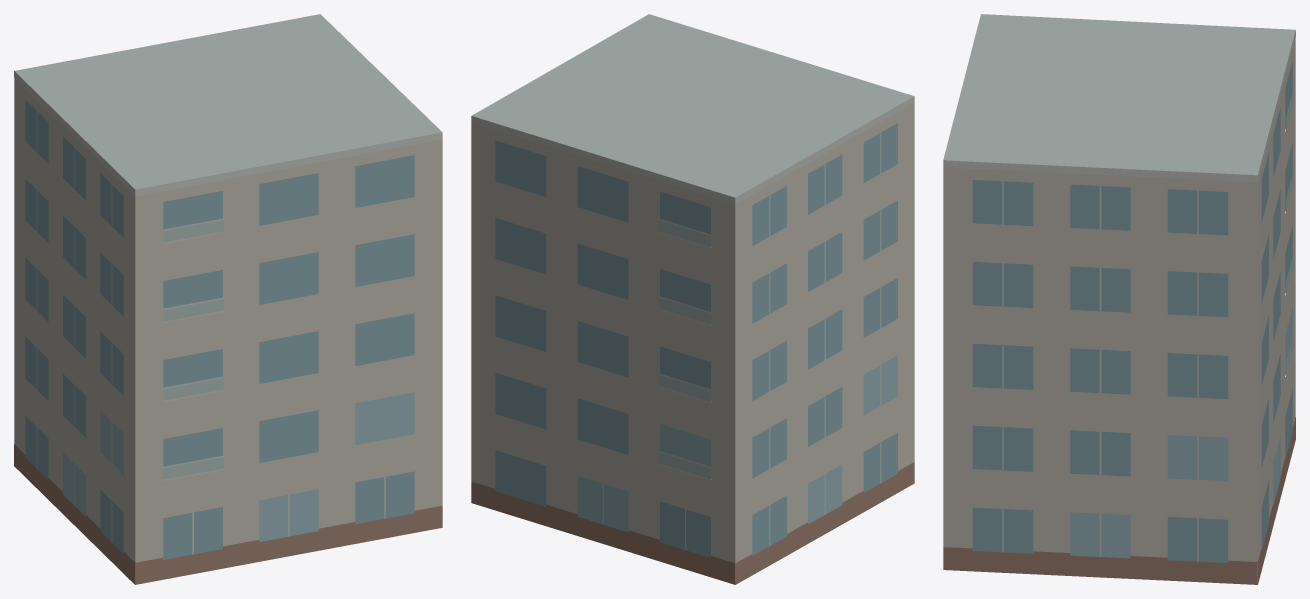
Rendered from survey-upis-32881170.glb.
The picture shows the model from 3 angles, left to right: view 1: azimuth 30°, elevation 25°; view 2: azimuth 150°, elevation 25°; view 3: azimuth 270°, elevation 25°; orthographic projection. The views are drawn at different scales.
Visible parts, largest first — view 1: survey-upis-32881170.tmp; view 2: survey-upis-32881170.tmp; view 3: survey-upis-32881170.tmp.
Boxes of the visible parts, left/top/right/bottom form: survey-upis-32881170.tmp: left=14, top=14, right=442, bottom=584; survey-upis-32881170.tmp: left=471, top=14, right=914, bottom=584; survey-upis-32881170.tmp: left=943, top=14, right=1295, bottom=584.
Size of the model in its own units: 12 by 14.2 by 11.09.
